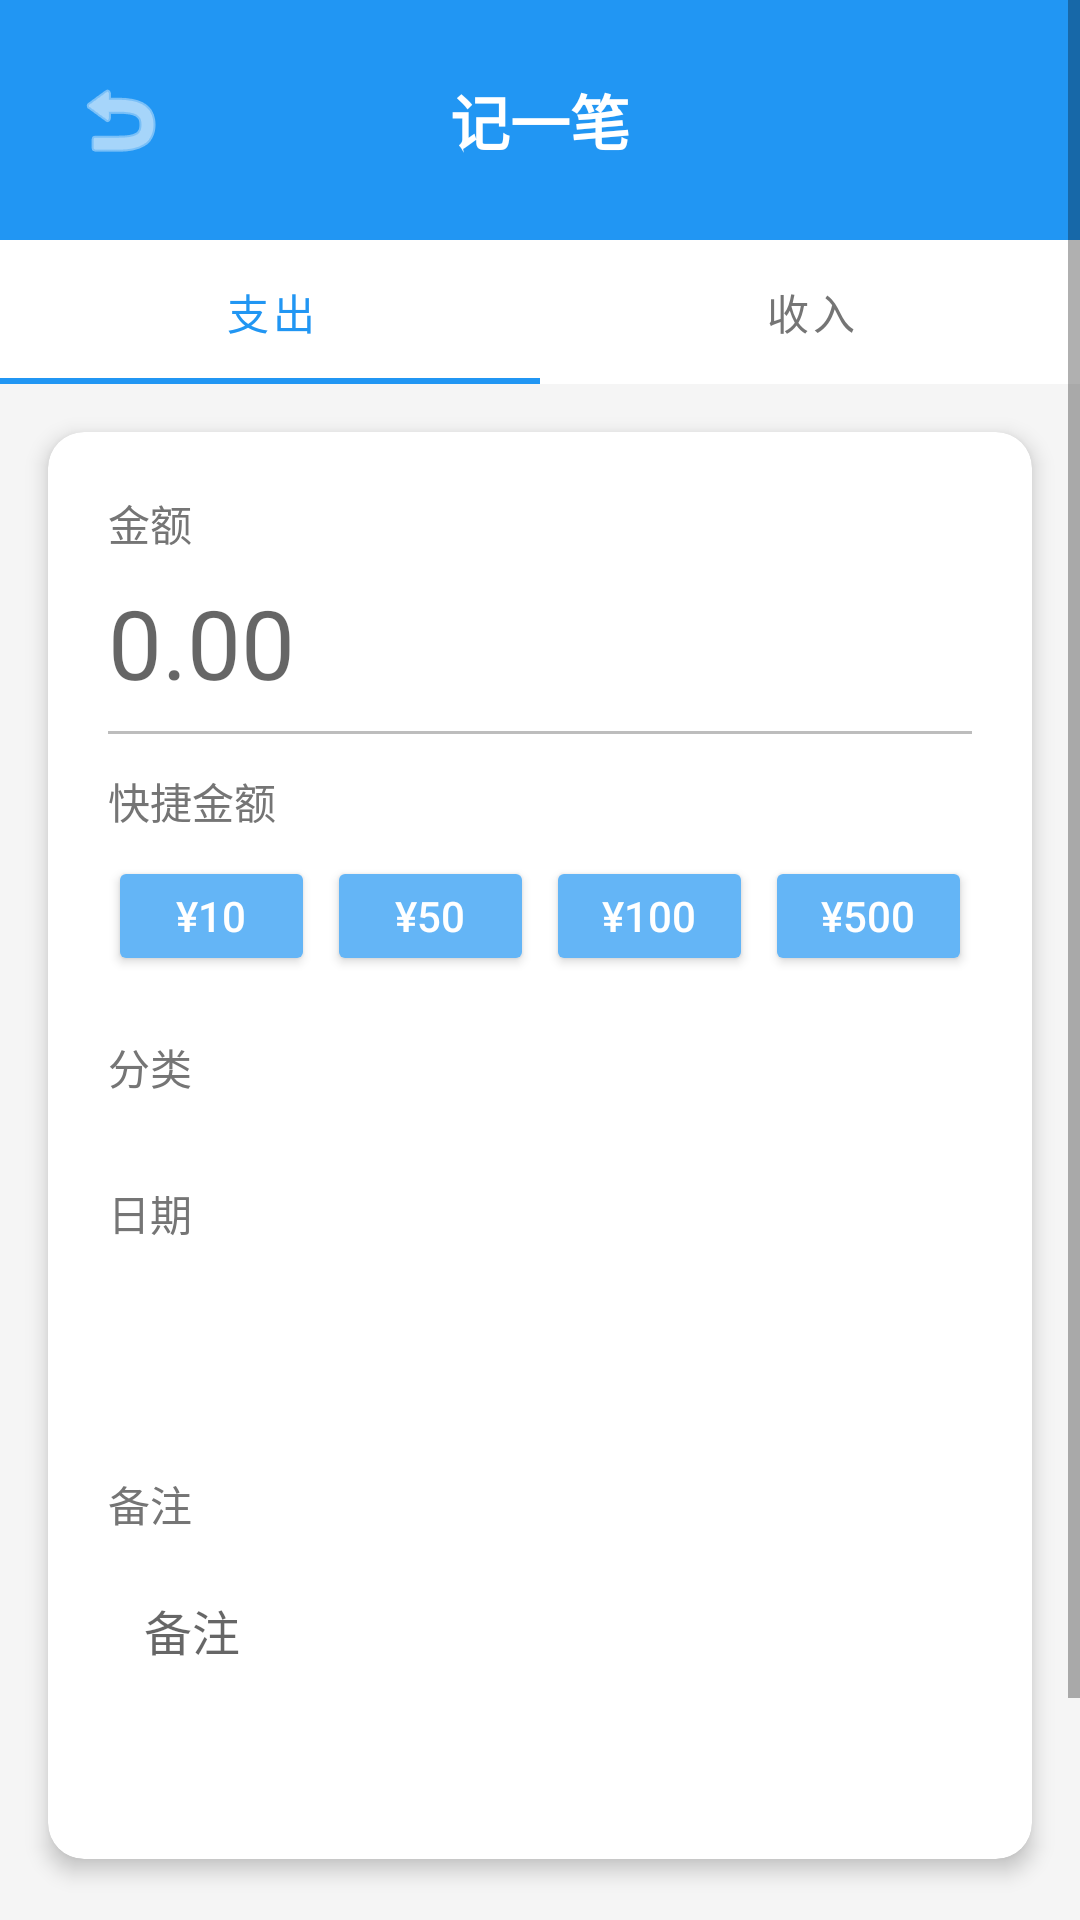

Icon bounding boxes for this 1080*1920 phone screenshot, format Rect(x1, y1, x2, y2):
取消: Rect(87, 89, 156, 152)
